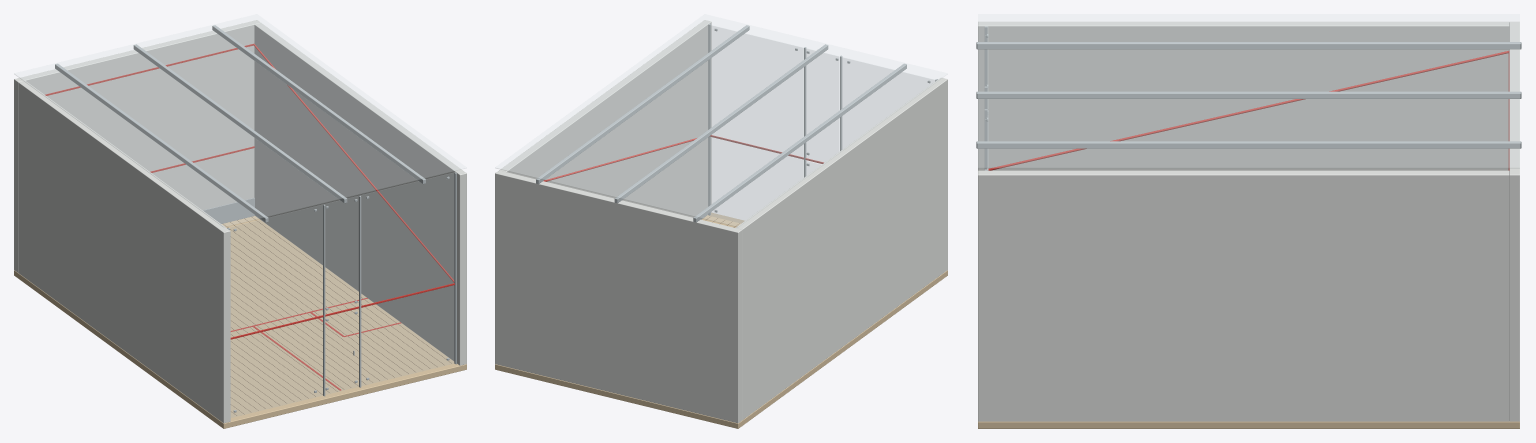
Rendered from squash-club-and-racket-workshop-complete-squash-court--76f10edb__29735.glb.
3 renders of one model, left to right at view 1: azimuth 30°, elevation 25°; view 2: azimuth 150°, elevation 25°; view 3: azimuth 270°, elevation 25°, orthographic. The views are drawn at different scales.
Parts seen in each view (by area): view 1: complete-squash-court-shell; view 2: complete-squash-court-shell; view 3: complete-squash-court-shell.
Part boxes in pixels (x1=…): complete-squash-court-shell: x1=14, y1=14, x2=466, y2=428; complete-squash-court-shell: x1=495, y1=14, x2=947, y2=428; complete-squash-court-shell: x1=976, y1=14, x2=1521, y2=428.
Size of the model in its own units: 6.8 by 5.41 by 10.2.
